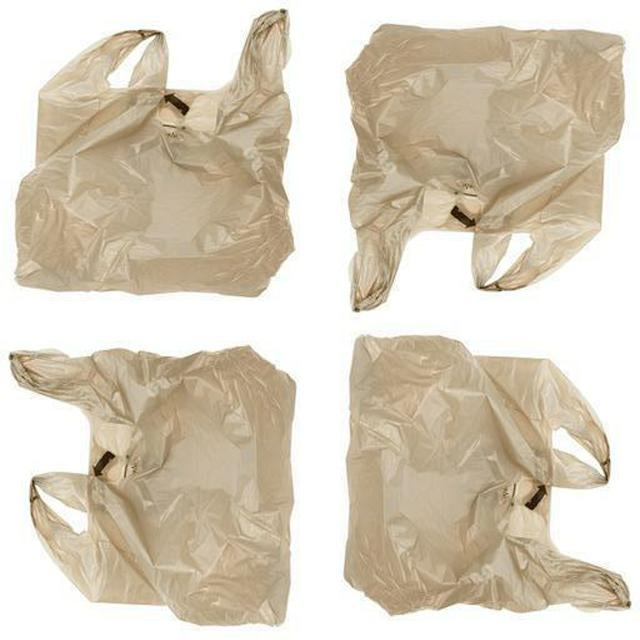Single-layer Plastic: (346, 25, 624, 310), (10, 346, 295, 624), (16, 10, 292, 296), (345, 336, 629, 613)
